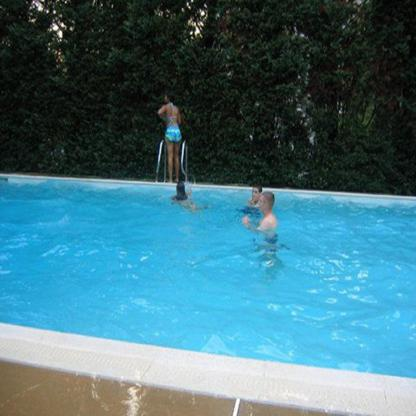face: (259, 199, 267, 214), (254, 189, 260, 202), (166, 95, 170, 103)
